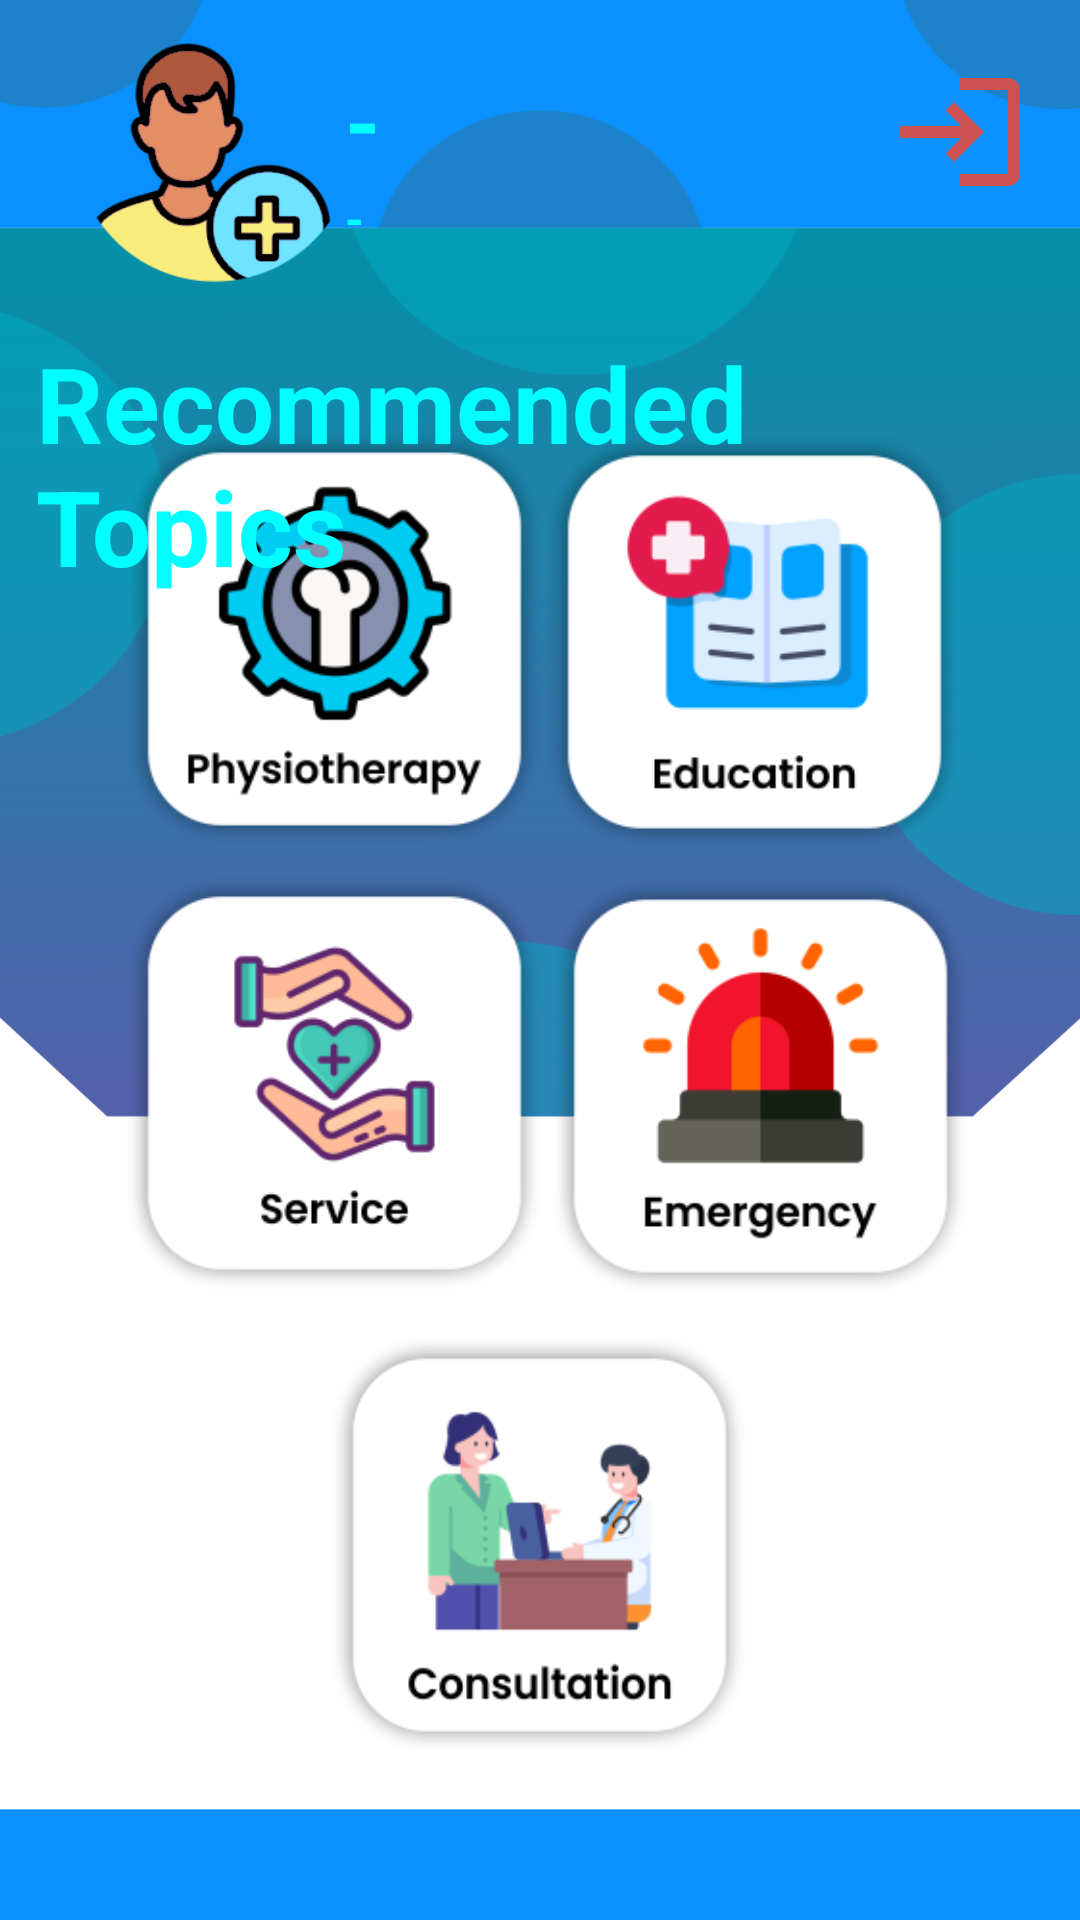

Icons on this 1080px×1920px Android screen, each with the point to tap as (x=x, y=y):
avt pasien: (x=214, y=141)
